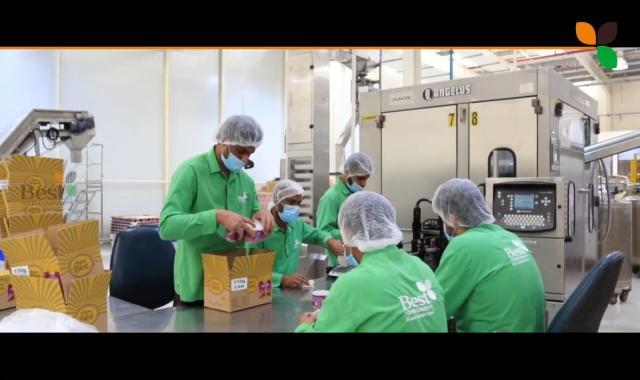Hairnet: (333, 194, 401, 249), (431, 177, 495, 229), (210, 114, 264, 146), (339, 153, 375, 177), (270, 179, 303, 205)
Mask: (218, 152, 243, 176), (279, 209, 304, 224), (343, 180, 366, 193)
No_Apron: (172, 173, 248, 305), (451, 232, 547, 334), (335, 253, 443, 337), (271, 227, 309, 283)
No_Glove: (216, 205, 251, 242), (283, 271, 307, 292), (256, 205, 272, 232), (300, 309, 318, 327)
